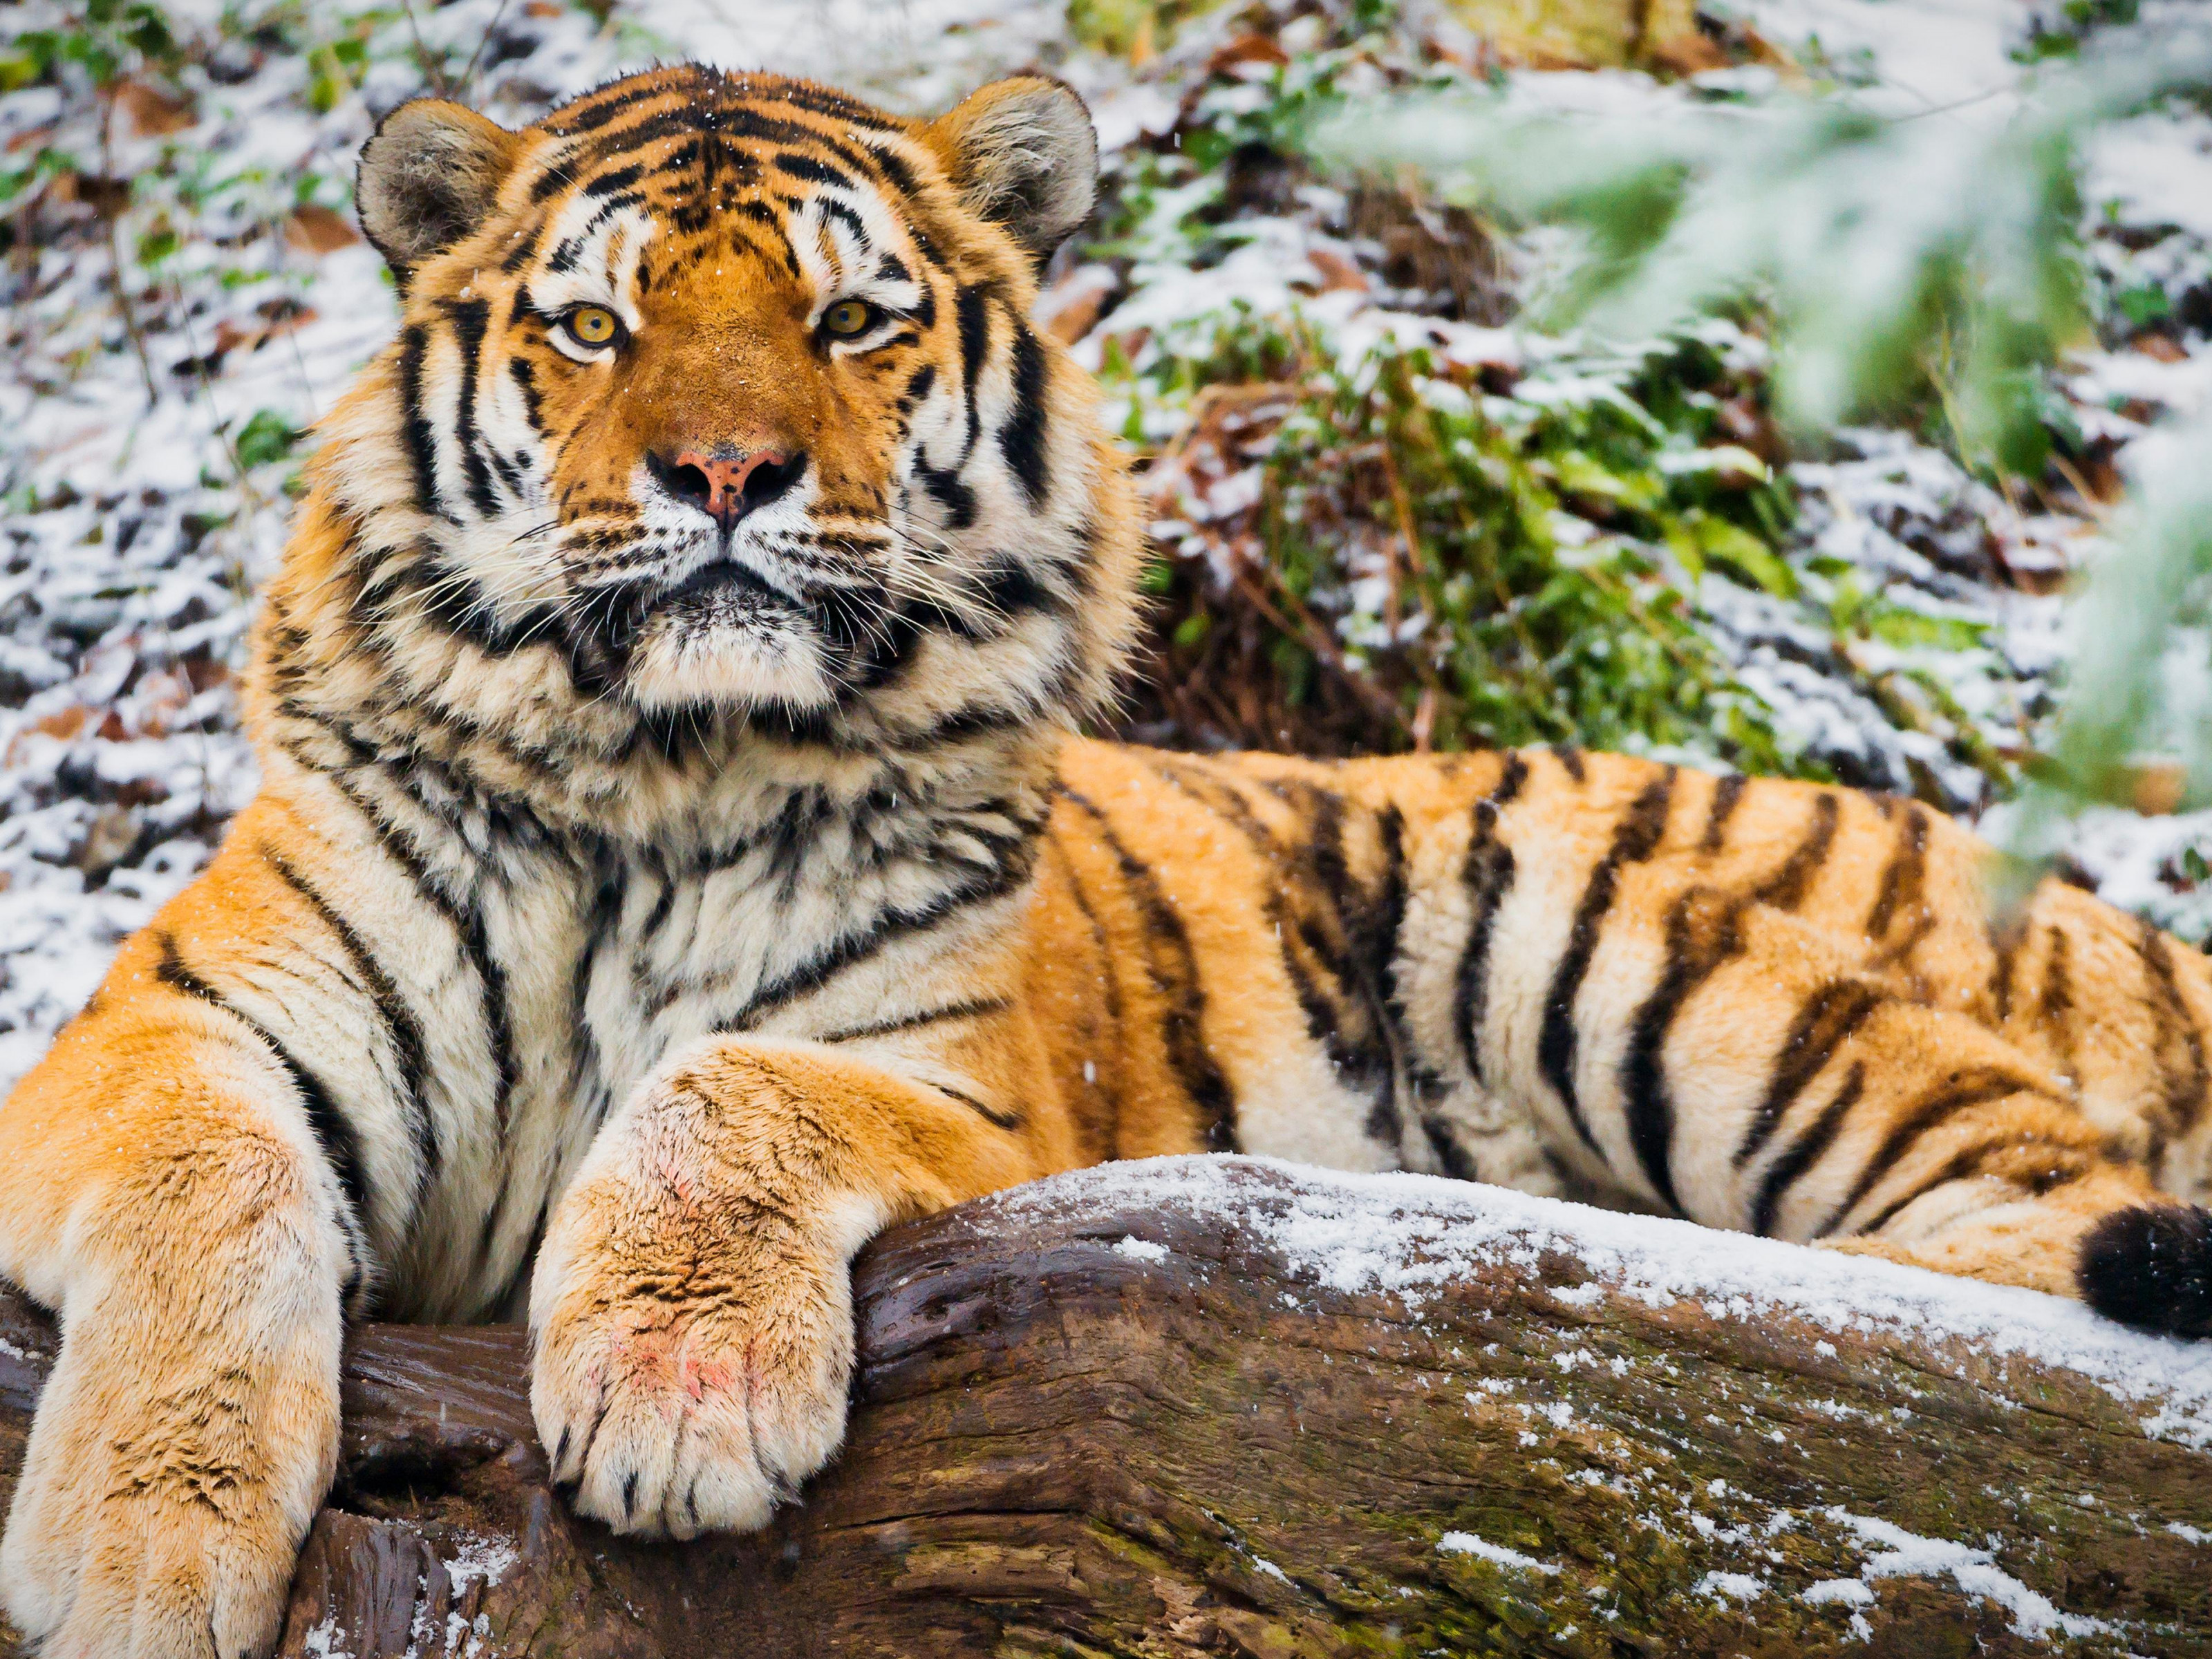Tigrew: (139, 17, 2205, 1572)
